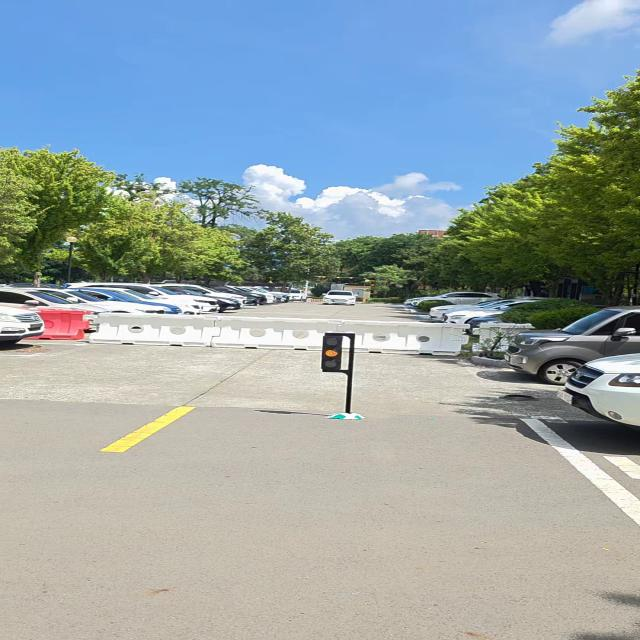yellow: (320, 335, 343, 371)
